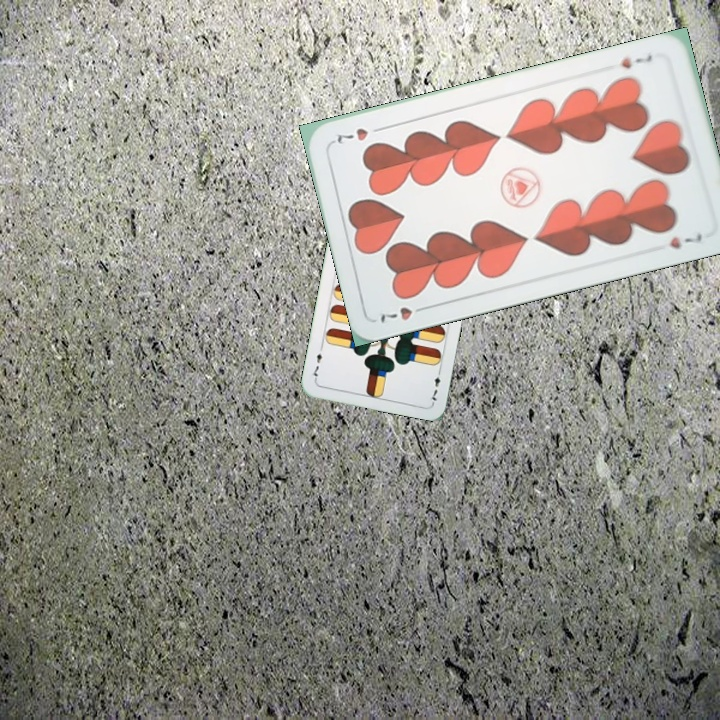E7: (426, 365, 444, 405)
H7: (375, 301, 432, 325), (617, 50, 655, 72)
